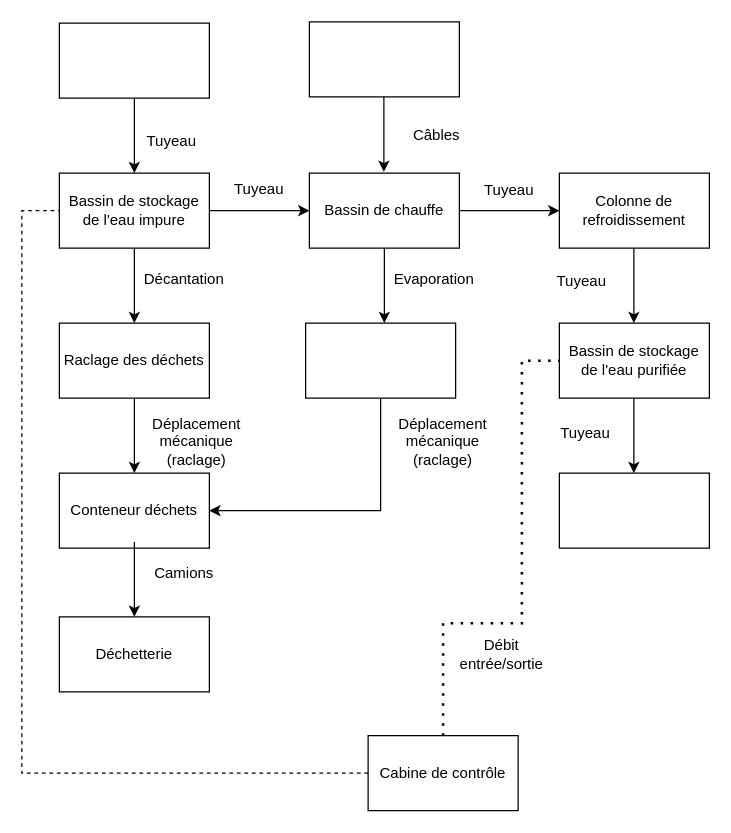
Some shapes in this 731 by 833 pixel diagram are drawn without their labels. The shapes that lost their labels are listed below. From the top down, each one's centre as x and y in pixels, then its label:
At (133,60): "Eau impure".
At (383,59): "Réseau électrique".
At (380,360): "Raclage des résidus".
At (633,510): "Zone industrielle".
